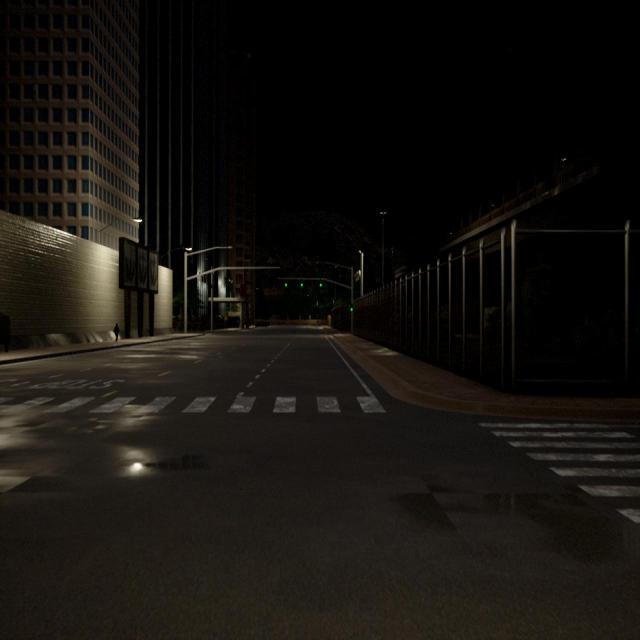Pedestrian: (113, 322, 120, 343)
Vehicle: (256, 319, 270, 328)
traffic_light: (300, 279, 304, 287), (350, 304, 353, 312), (285, 278, 287, 288), (320, 279, 322, 287)
